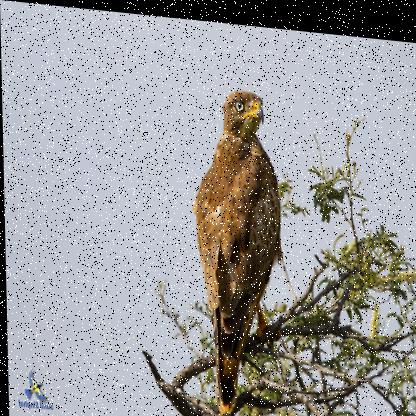Burung: (191, 76, 292, 416)
